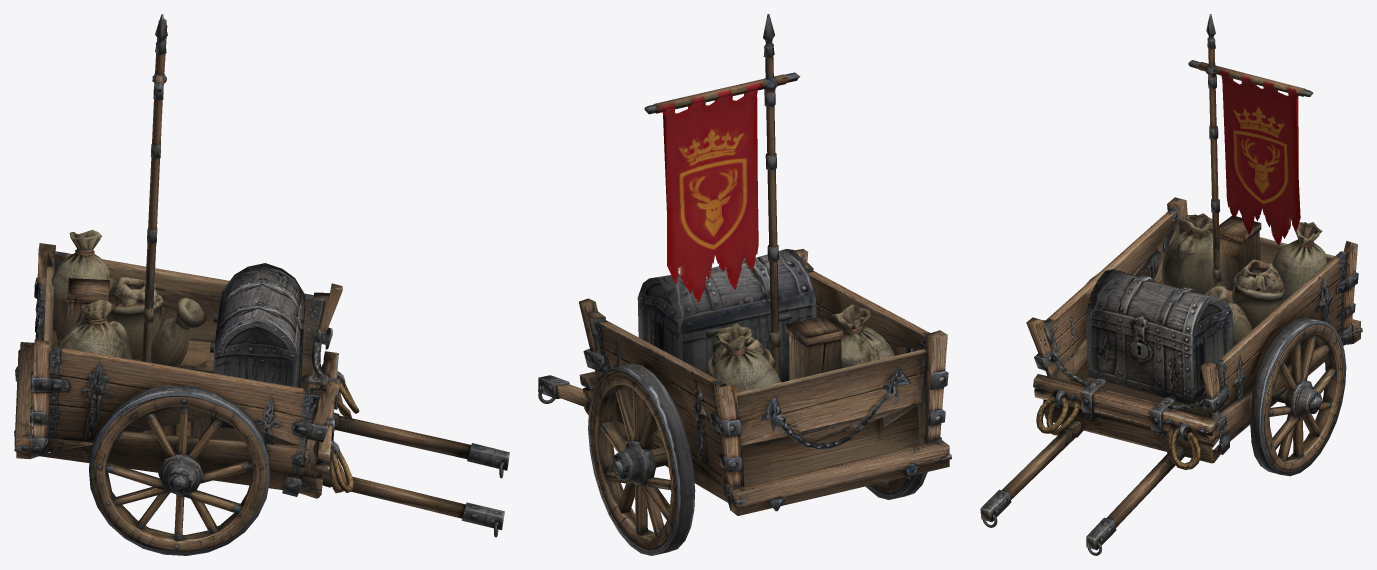
Rendered from SM_Env_SherwoodTaxCart.fbx.
3 renders of one model, left to right at view 1: azimuth 30°, elevation 25°; view 2: azimuth 150°, elevation 25°; view 3: azimuth 270°, elevation 25°, orthographic. The views are drawn at different scales.
Parts seen in each view (by area): view 1: SM_Env_SherwoodTaxCart; view 2: SM_Env_SherwoodTaxCart; view 3: SM_Env_SherwoodTaxCart.
Part boxes in pixels (x1,y1,x2,y2): SM_Env_SherwoodTaxCart: (14,14,509,555); SM_Env_SherwoodTaxCart: (538,14,951,555); SM_Env_SherwoodTaxCart: (980,14,1362,555).
Size of the model in its own units: 51.81 by 44.04 by 54.
1 material, 1 textured.
